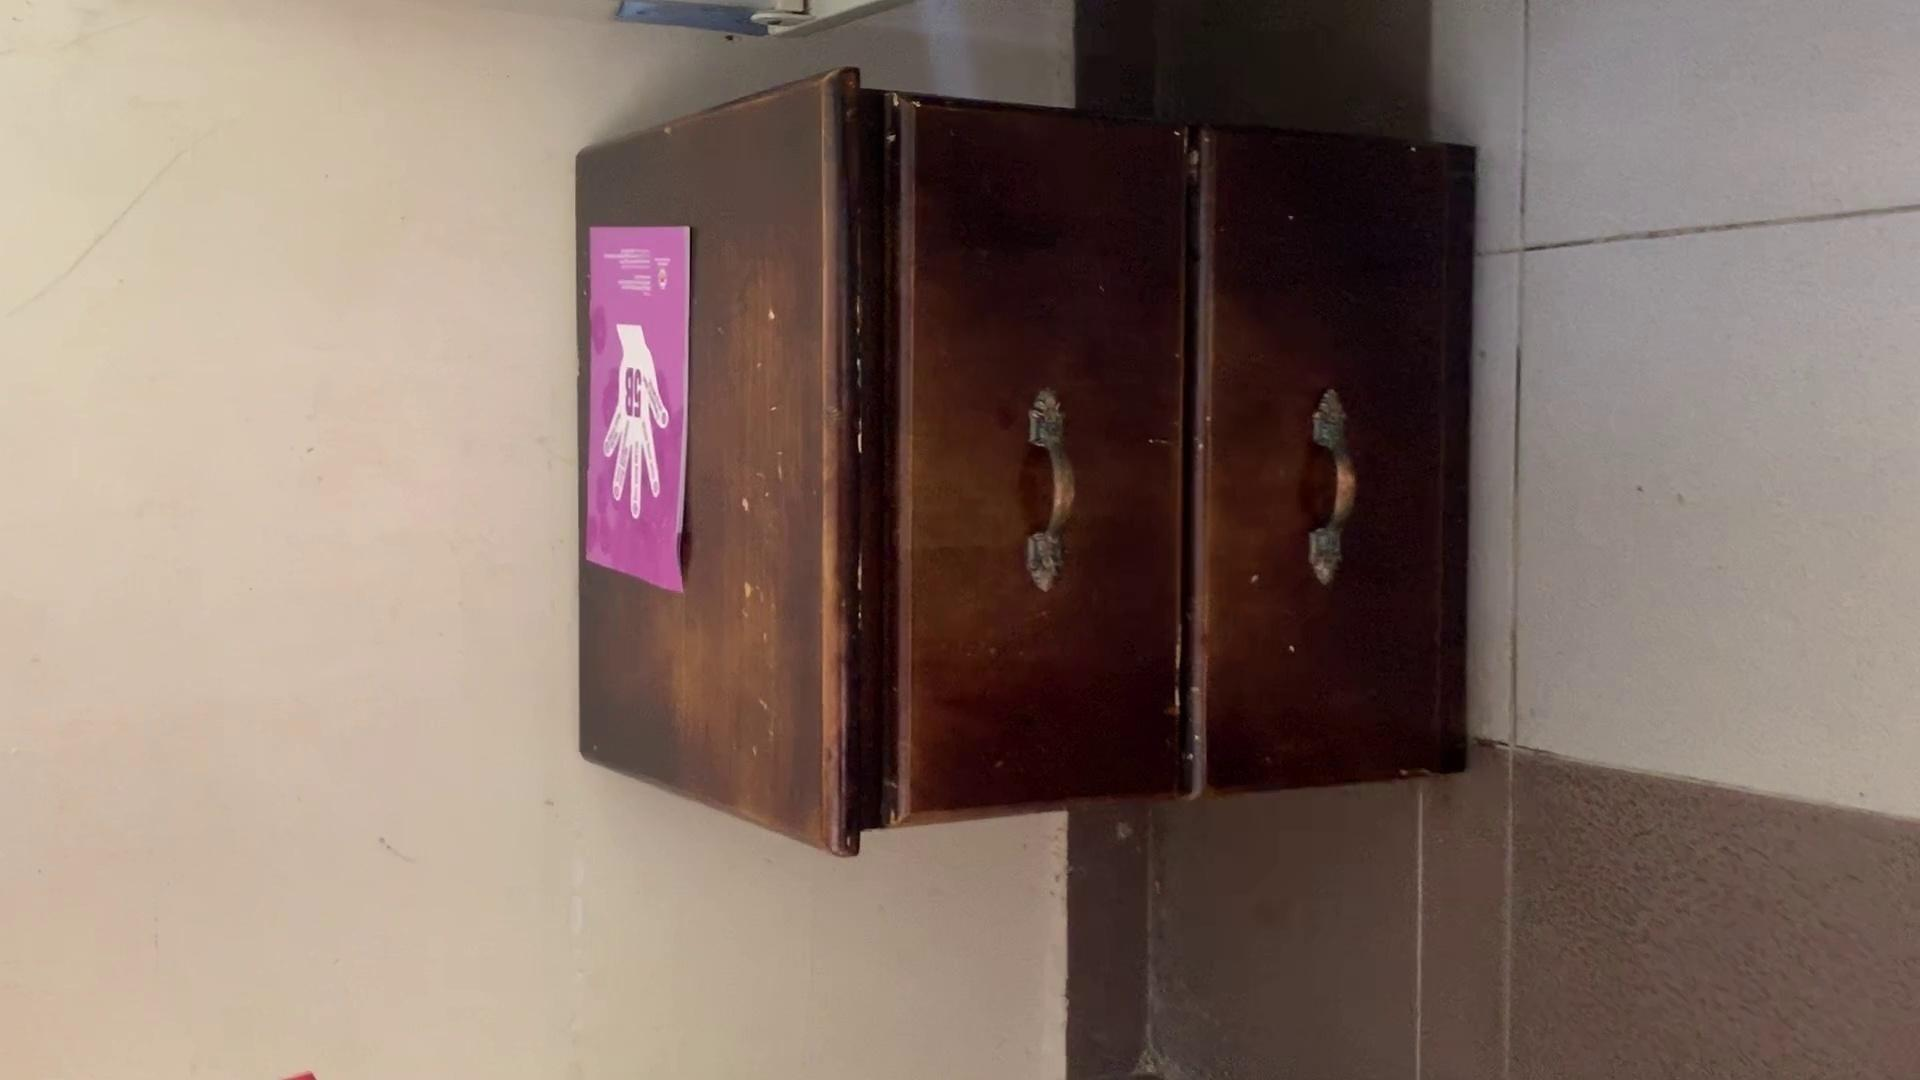cabinet_door: (903, 113, 1187, 804), (1193, 131, 1466, 785)
handle: (1300, 392, 1373, 589), (1019, 380, 1083, 601)
